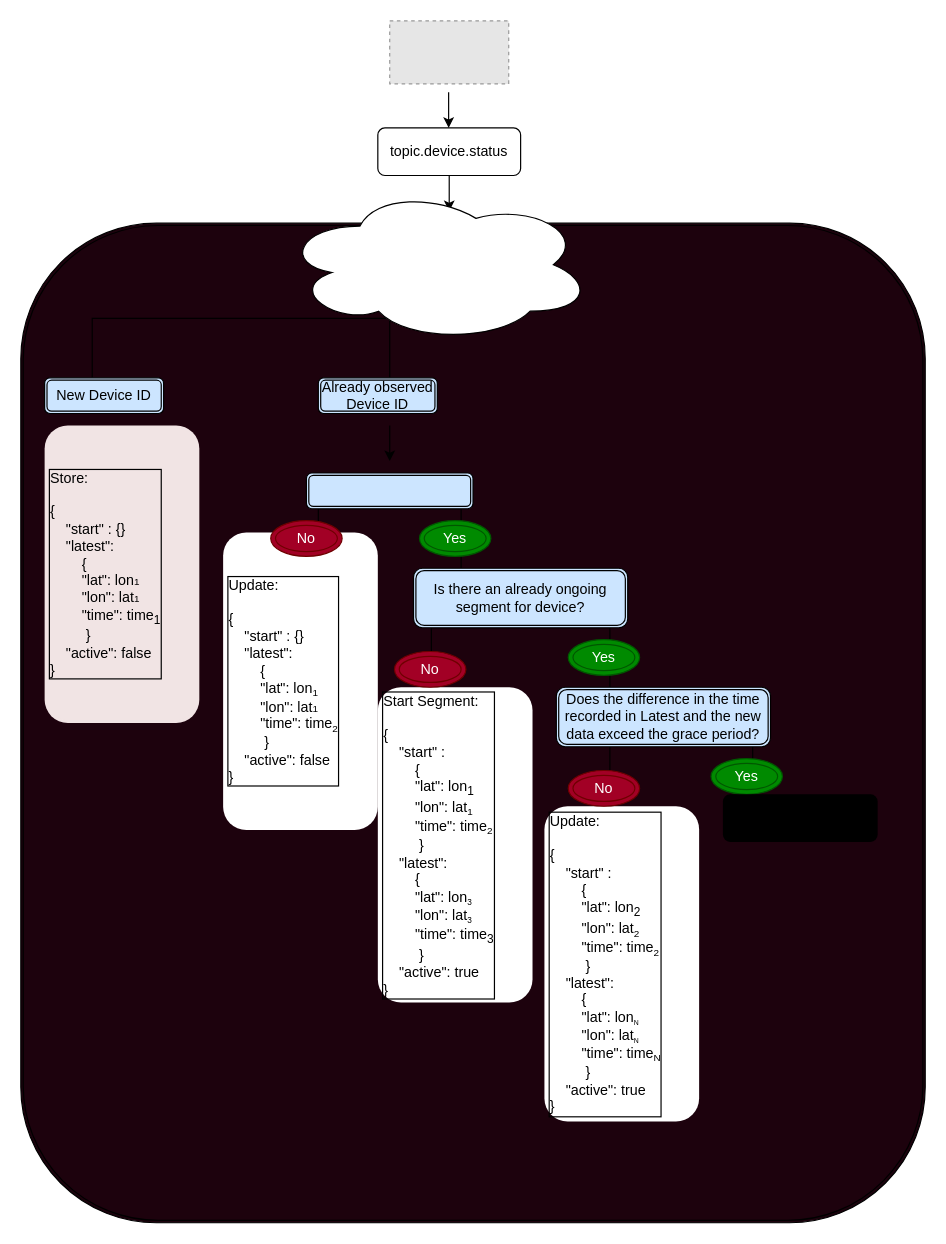
This 946x1244 diagram has some shape labels left out. Grey dashed boxes stand in for pictures. The box of each missing label's shape, as (x1, y1, x2, y2) in pixels:
Did the Lat/ Lon change?: (305, 472, 473, 509)
Send completed trip to event topic: (722, 794, 877, 841)
{... deviceID lat 1 lon 1 time 1 }: (281, 186, 592, 342)
